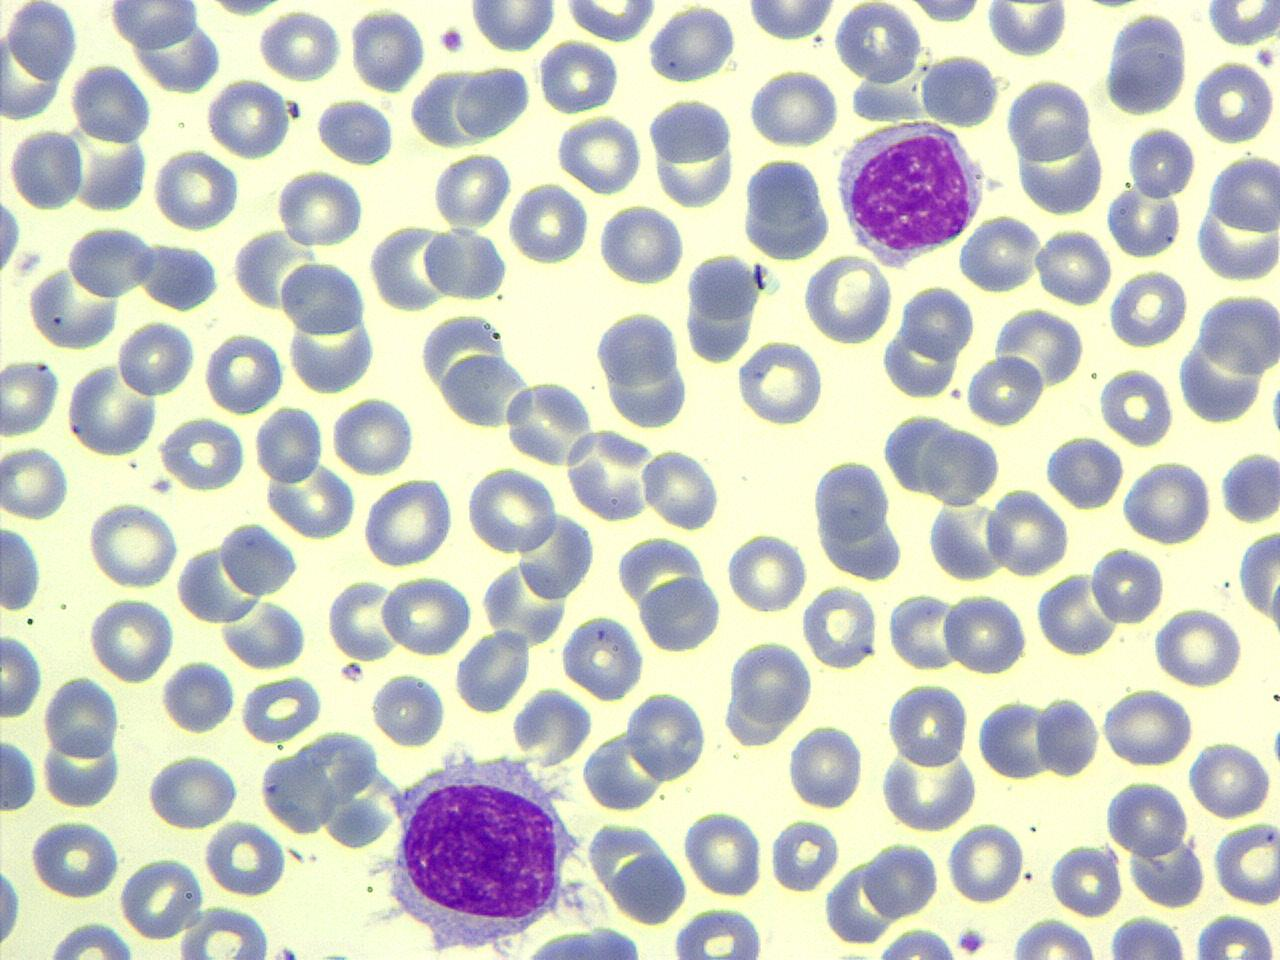Platelets: (954, 926, 987, 956), (1267, 373, 1280, 443), (436, 24, 466, 54), (1269, 722, 1280, 772), (1252, 45, 1276, 66), (277, 944, 300, 960)
RBC: (726, 633, 816, 740), (1103, 9, 1189, 118), (880, 740, 978, 834), (564, 423, 656, 523), (64, 361, 158, 458), (1012, 120, 1105, 218), (361, 475, 455, 570), (801, 252, 894, 346), (466, 464, 559, 556), (86, 499, 178, 591), (734, 336, 824, 429), (502, 378, 596, 467), (1119, 457, 1213, 546), (26, 264, 120, 352), (994, 304, 1084, 393), (596, 200, 688, 287), (380, 572, 473, 658), (1151, 604, 1245, 689), (88, 594, 174, 686), (560, 611, 645, 704), (985, 486, 1071, 576), (748, 65, 840, 149), (683, 806, 765, 900), (624, 690, 706, 784), (1102, 686, 1196, 768), (886, 678, 971, 768), (265, 458, 358, 540), (942, 589, 1028, 677), (29, 816, 120, 899), (130, 14, 223, 95), (518, 508, 596, 604), (144, 752, 240, 830), (119, 854, 204, 942), (1192, 57, 1276, 146), (832, 1, 922, 84), (275, 167, 367, 248), (438, 352, 533, 430), (330, 392, 416, 478), (154, 146, 239, 233), (206, 75, 290, 162), (812, 456, 893, 546), (726, 528, 810, 614), (1036, 568, 1116, 658), (646, 4, 736, 84), (800, 581, 880, 671), (156, 416, 248, 494), (202, 330, 285, 416), (637, 572, 724, 654), (420, 222, 509, 302), (508, 180, 589, 267), (278, 257, 366, 337), (71, 59, 150, 148), (786, 722, 864, 812), (1104, 776, 1188, 859), (1188, 738, 1272, 820), (640, 446, 721, 531), (41, 724, 121, 810), (556, 114, 642, 194), (44, 674, 122, 762), (350, 5, 426, 95), (926, 497, 1006, 582), (946, 820, 1025, 906), (65, 224, 154, 300), (922, 424, 1002, 508), (1108, 266, 1188, 350), (1097, 363, 1175, 449), (114, 316, 194, 399), (217, 518, 302, 596), (455, 628, 532, 714), (8, 125, 84, 212), (202, 818, 284, 898), (958, 213, 1040, 293), (975, 698, 1053, 782), (1044, 432, 1124, 513), (538, 36, 622, 113), (327, 576, 402, 662), (432, 150, 511, 231), (454, 64, 536, 142), (919, 52, 1003, 128), (1088, 544, 1166, 625), (644, 96, 734, 166), (888, 590, 963, 674), (257, 7, 341, 82), (1208, 150, 1280, 237), (219, 598, 306, 670), (964, 352, 1046, 428), (864, 838, 940, 920), (6, 0, 80, 84), (900, 282, 976, 362), (1126, 834, 1206, 910), (1035, 226, 1111, 306), (368, 670, 445, 748), (1105, 180, 1181, 259), (238, 674, 323, 744), (1213, 818, 1279, 908), (141, 239, 222, 312), (768, 814, 840, 896), (314, 96, 398, 166), (160, 659, 235, 736), (254, 403, 324, 485), (1035, 695, 1101, 780), (612, 852, 688, 925), (175, 903, 274, 959), (1051, 840, 1123, 917), (1127, 122, 1197, 201), (1, 443, 71, 521), (669, 904, 767, 958), (984, 0, 1070, 59), (1, 356, 62, 437), (467, 0, 559, 52), (1218, 448, 1280, 522), (108, 0, 199, 49), (1238, 524, 1280, 628), (0, 520, 46, 613), (743, 0, 840, 43), (562, 0, 657, 43), (1192, 911, 1276, 959), (0, 632, 44, 720), (1008, 917, 1099, 959), (40, 921, 138, 959), (1106, 914, 1190, 958), (1204, 0, 1280, 48), (872, 924, 960, 960), (0, 733, 38, 814), (0, 856, 24, 956), (0, 186, 24, 284)
WBC: (380, 746, 578, 956), (832, 118, 986, 272), (255, 726, 398, 848), (810, 455, 908, 581), (739, 151, 838, 262), (1103, 9, 1189, 118), (639, 571, 723, 656), (217, 518, 299, 596), (493, 924, 659, 960), (1218, 448, 1280, 526), (0, 521, 46, 613)
